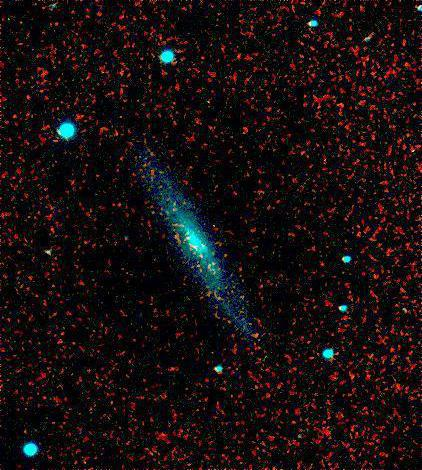star: (241, 319, 271, 349)
